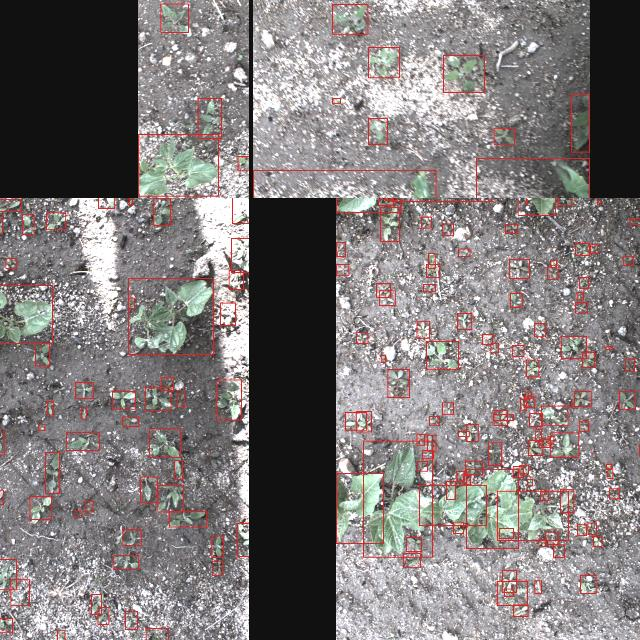crop: (362, 440, 432, 556), (128, 278, 214, 354), (252, 169, 435, 198), (137, 134, 217, 196), (476, 158, 589, 198), (466, 468, 518, 548), (497, 490, 568, 540), (336, 472, 382, 542), (0, 285, 52, 343), (418, 484, 486, 526), (571, 93, 589, 151), (517, 198, 555, 214)
weed: (442, 54, 483, 92), (216, 379, 242, 419), (332, 3, 366, 33), (197, 98, 221, 138), (368, 47, 398, 77), (426, 341, 458, 369), (150, 428, 180, 457), (160, 2, 188, 32), (497, 580, 527, 606), (158, 484, 182, 512), (550, 432, 578, 456), (379, 207, 398, 241), (44, 452, 60, 492), (65, 432, 98, 451), (231, 238, 249, 272), (145, 386, 171, 409), (560, 336, 586, 358), (388, 369, 408, 397), (169, 512, 207, 526), (540, 406, 568, 424), (368, 118, 387, 144), (29, 496, 51, 518), (10, 579, 28, 605), (0, 559, 15, 589), (153, 198, 170, 224), (236, 522, 249, 556), (140, 476, 156, 502), (232, 198, 249, 222), (509, 258, 529, 278), (112, 390, 134, 408), (344, 412, 366, 430), (45, 212, 65, 230), (220, 302, 236, 324), (35, 342, 49, 366), (114, 555, 138, 569), (560, 488, 574, 512), (494, 128, 514, 144), (355, 411, 371, 431), (502, 570, 516, 592), (488, 442, 502, 464), (75, 382, 93, 398), (122, 529, 140, 545), (228, 270, 244, 288), (580, 575, 596, 593), (619, 390, 635, 408), (146, 627, 168, 640), (574, 390, 590, 406), (456, 313, 472, 329), (402, 553, 420, 567), (464, 460, 482, 474), (211, 536, 223, 556), (22, 214, 34, 234), (0, 199, 20, 211), (378, 290, 394, 304), (125, 611, 137, 629), (465, 424, 477, 441), (526, 359, 538, 376), (91, 594, 101, 614), (98, 606, 109, 624), (406, 537, 420, 551), (528, 440, 542, 454), (493, 410, 507, 424), (375, 283, 389, 297), (425, 263, 439, 277), (512, 604, 528, 616), (416, 321, 428, 337), (445, 481, 455, 499), (237, 156, 249, 170), (530, 412, 542, 426), (534, 322, 546, 336), (582, 352, 594, 366), (509, 292, 521, 306), (575, 242, 589, 254), (122, 416, 138, 426), (98, 198, 114, 208), (426, 434, 436, 450), (498, 528, 514, 538), (161, 376, 173, 389), (0, 618, 11, 632), (174, 459, 182, 478), (545, 531, 557, 543), (552, 544, 564, 556), (511, 344, 523, 356), (212, 560, 222, 574), (547, 265, 557, 279), (453, 521, 463, 533), (576, 524, 586, 536), (512, 466, 524, 476), (493, 414, 513, 420), (355, 332, 367, 342), (575, 302, 587, 312), (578, 276, 588, 288), (421, 216, 431, 228), (442, 223, 452, 235), (336, 264, 348, 274), (178, 389, 185, 406), (626, 358, 634, 372), (336, 242, 344, 256), (442, 402, 452, 413), (5, 258, 15, 268), (609, 488, 619, 498), (592, 536, 602, 546), (518, 464, 528, 474), (416, 460, 426, 470), (524, 396, 534, 406), (482, 334, 492, 344), (558, 198, 572, 205), (46, 400, 52, 416), (588, 522, 596, 534), (534, 580, 542, 592), (428, 252, 434, 268), (457, 248, 469, 256), (505, 224, 517, 232), (580, 421, 588, 432), (378, 199, 392, 205), (56, 630, 64, 640), (456, 470, 464, 480), (462, 474, 470, 484), (539, 439, 549, 447), (416, 434, 424, 444), (429, 416, 439, 424), (422, 450, 432, 458), (490, 342, 498, 352), (623, 256, 633, 264), (503, 588, 512, 596), (535, 429, 541, 441), (423, 284, 435, 290), (540, 492, 548, 501), (520, 398, 526, 409), (629, 218, 640, 224), (538, 538, 546, 546), (576, 291, 584, 299), (590, 244, 598, 252), (128, 297, 134, 307), (80, 408, 86, 418), (86, 501, 92, 511), (458, 430, 468, 436), (74, 510, 82, 516), (524, 392, 532, 398), (608, 468, 612, 478), (38, 424, 44, 430), (547, 436, 553, 442), (550, 260, 556, 266), (332, 98, 340, 102), (380, 354, 384, 362), (0, 488, 2, 503), (128, 198, 132, 205), (606, 464, 612, 468), (528, 478, 532, 484), (384, 198, 395, 200), (597, 200, 601, 204), (606, 346, 612, 348), (525, 198, 527, 204), (97, 639, 105, 640), (570, 402, 572, 406)
